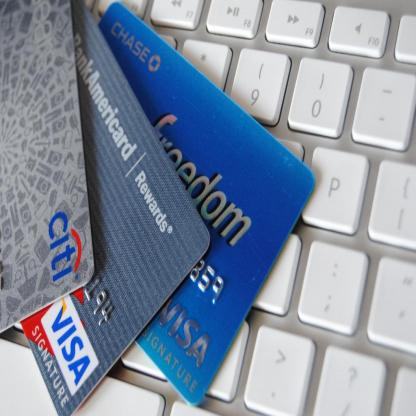board: (97, 0, 314, 406), (22, 0, 210, 416), (0, 0, 95, 335)
